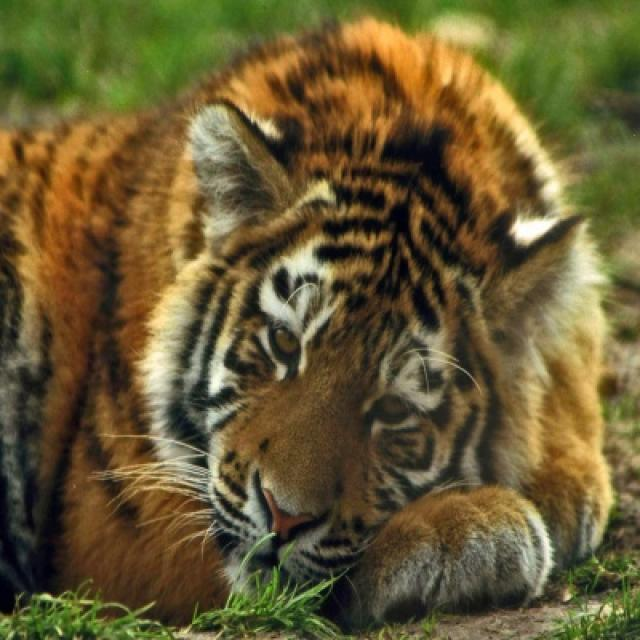Tiger: (5, 15, 619, 629)
